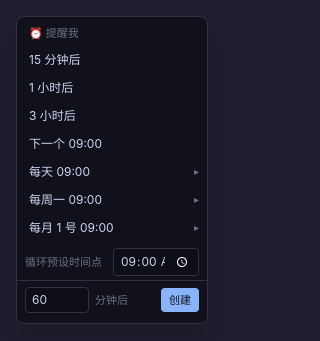
Test case: ReminderMenu 预设项 › 时间点被清空时回落 09:00，不产出脏时间
The width and height of the screenshot is (320, 341).
Replace the text in the time field labelled "循环预设时间点" with "20:30" at (156, 262), box [113,248,199,276]
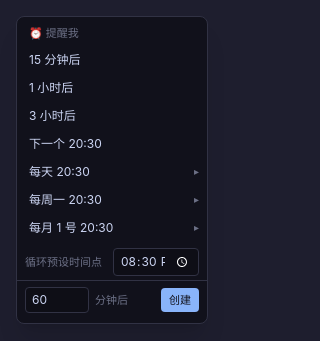
Clear the time field labelled "循环预设时间点" at (156, 262), box [113,248,199,276]
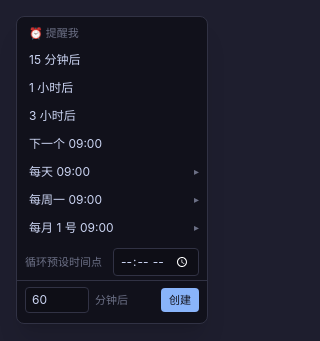
Expected: the button "每天 09:00" is shown, [17,158,186,186]
